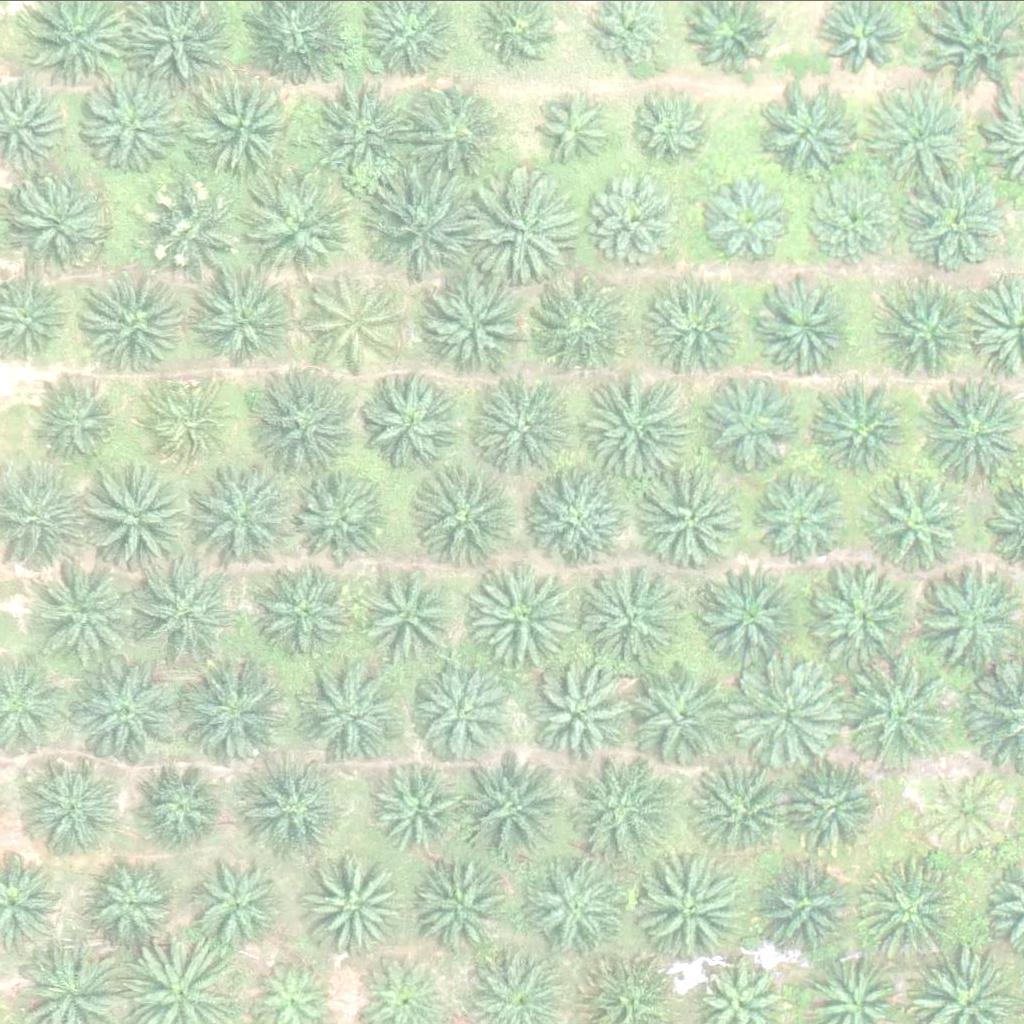Kelapa_Sawit: (175, 659, 289, 772), (846, 660, 960, 773), (632, 859, 745, 972), (70, 660, 183, 773), (470, 560, 583, 673), (25, 558, 138, 671), (81, 464, 194, 577), (577, 368, 690, 481), (287, 653, 401, 765), (467, 363, 581, 475), (466, 170, 580, 282), (374, 170, 488, 282), (459, 751, 572, 863), (731, 660, 844, 772), (574, 559, 687, 671), (129, 556, 242, 668), (249, 359, 362, 471), (416, 260, 529, 372), (859, 85, 972, 197), (855, 852, 968, 964), (313, 857, 414, 957), (525, 858, 626, 958), (754, 867, 855, 967), (685, 764, 786, 864), (585, 754, 686, 854), (240, 758, 341, 858), (19, 754, 120, 854), (412, 660, 513, 760), (528, 663, 629, 763), (693, 565, 794, 665), (255, 563, 356, 663), (359, 564, 460, 664), (194, 467, 295, 567), (416, 470, 517, 570), (524, 464, 625, 564), (649, 465, 750, 565), (701, 372, 802, 472), (360, 365, 461, 465), (82, 271, 183, 371), (306, 274, 407, 374), (536, 279, 637, 379), (651, 275, 752, 375), (759, 274, 860, 374), (6, 174, 107, 274), (154, 177, 255, 277), (198, 72, 299, 172), (314, 77, 415, 177), (406, 79, 507, 179), (900, 166, 1001, 266), (881, 282, 982, 382), (813, 378, 914, 478), (411, 852, 511, 952), (635, 670, 735, 770), (294, 470, 394, 570), (197, 272, 297, 372), (698, 166, 798, 266), (253, 176, 353, 276), (88, 76, 188, 176), (762, 80, 862, 180), (863, 476, 963, 576), (812, 565, 912, 665), (782, 763, 882, 863), (629, 87, 718, 175), (805, 173, 894, 261), (142, 375, 230, 463), (925, 766, 1013, 854), (536, 91, 624, 178), (89, 861, 177, 948), (196, 857, 284, 944), (370, 766, 458, 853), (131, 763, 219, 850), (758, 475, 846, 562), (34, 378, 122, 465), (599, 172, 687, 259)
